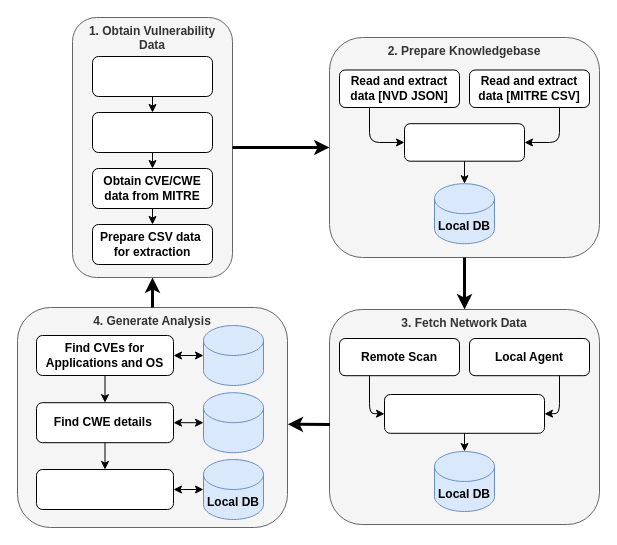
Some shapes in this 617 by 545 pixel diagram are drawn without their labels. Each missing label, with the centre of its shape:
Generate Analysis based on relations: [105,489]
Generate Keywords: [464,142]
MITRE CVE: [233,355]
MITRE CWE: [233,422]
Obtain CVE data from NVD [JSON]: [152,76]
Prepare JSON data for extraction: [152,132]
Update Applications DB [Node / OS / Application ]: [464,413]
